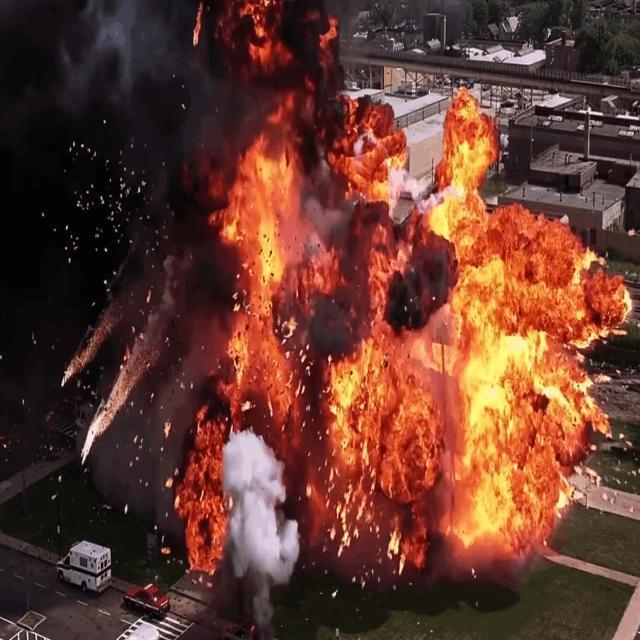fire: (58, 0, 636, 598)
